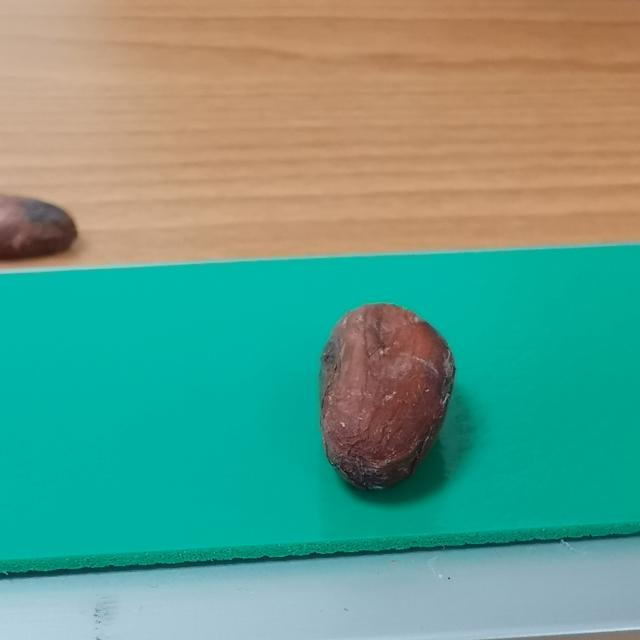Fine_cocoabeans: (235, 281, 538, 523)
